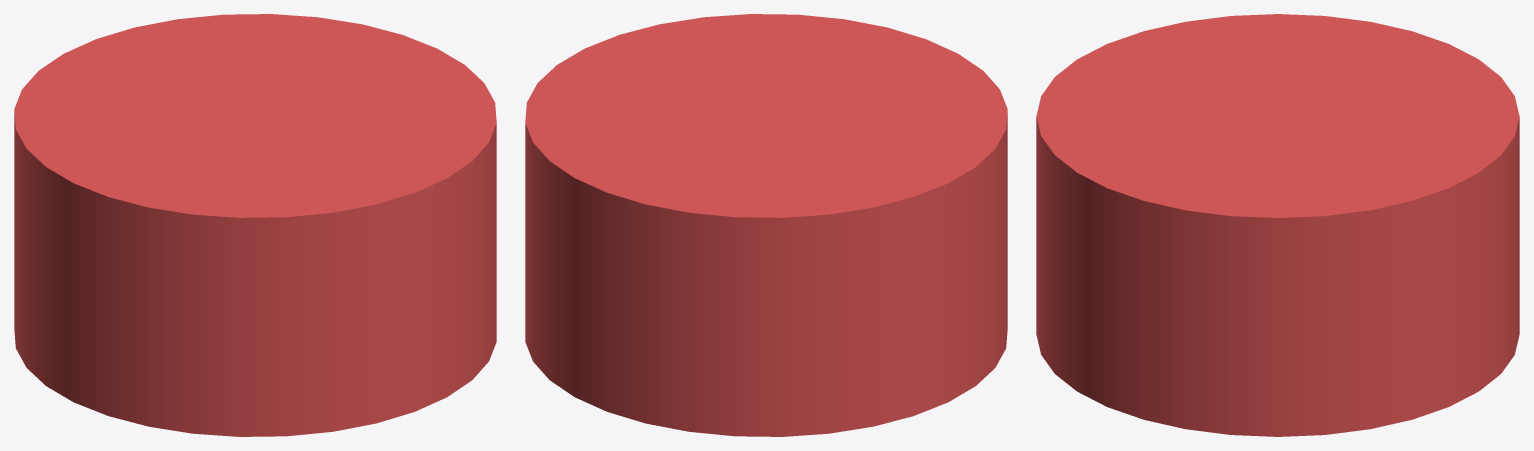
3 views of the same model, side by side, from view 1: azimuth 30°, elevation 25°; view 2: azimuth 150°, elevation 25°; view 3: azimuth 270°, elevation 25° (orthographic).
Visible parts, largest first — view 1: occluder_cylinder; view 2: occluder_cylinder; view 3: occluder_cylinder.
Part boxes in pixels (<box>): occluder_cylinder: <box>14,14,496,436</box>; occluder_cylinder: <box>525,14,1007,436</box>; occluder_cylinder: <box>1036,14,1519,436</box>.
Size of the model in its own units: 2 by 1 by 2.
